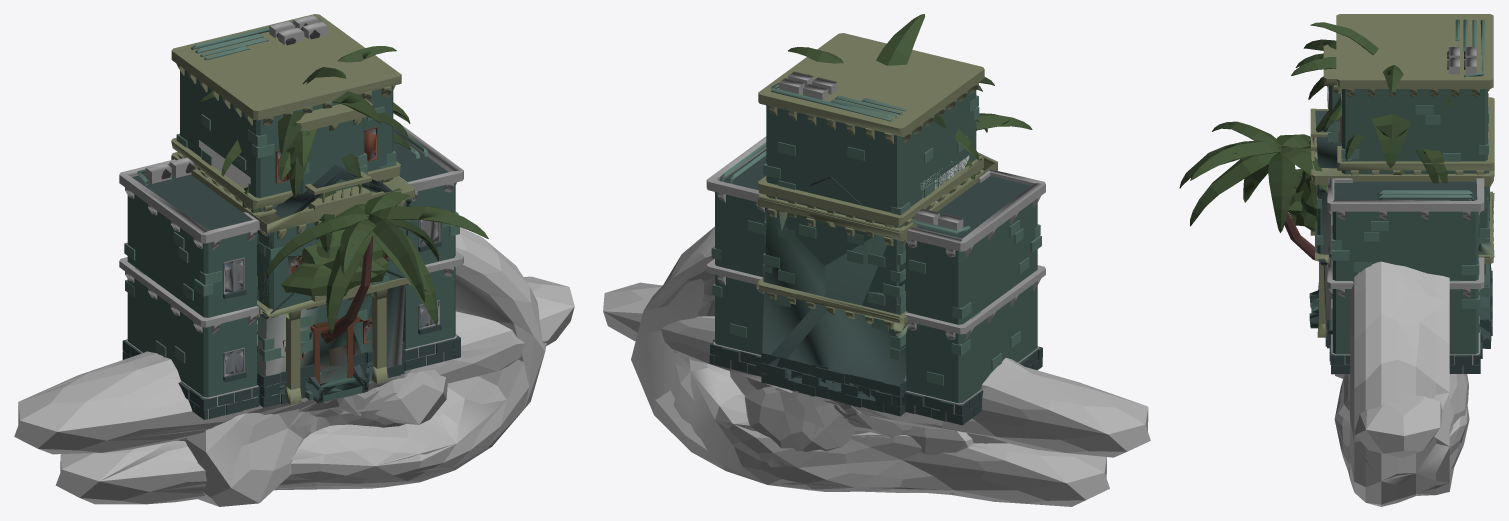
File: scenery.glb
3 views of the same model, side by side, from view 1: azimuth 30°, elevation 25°; view 2: azimuth 150°, elevation 25°; view 3: azimuth 270°, elevation 25° (orthographic). The views are drawn at different scales.
Parts seen in each view (by area): view 1: sobrado_largo, nuvem_5, nuvem_4, casarao_varanda, casarao_varanda_low, palmeira_2, nuvem_3, sobrado_colunas, sobrado_telhado, nuvem_5_low, sobrado_telhado_low, casarao_estreito (+13 smaller); view 2: sobrado_largo, nuvem_5, casarao_varanda, nuvem_4, sobrado_low, sobrado_varanda, nuvem_5_low, casarao_varanda_low, sobrado, nuvem_3, sobrado_varanda_low, sobrado_colunas (+3 smaller); view 3: sobrado_largo, nuvem_5, casarao_varanda, casarao_varanda_low, palmeira_2, nuvem_4, nuvem_5_low, sobrado_varanda, palmeira_1, sobrado_colunas, palmeira_3, sobrado_telhado (+10 smaller).
Boxes of the visible parts, left/top/right/bottom form: sobrado_largo: left=119, top=125, right=463, bottom=419; nuvem_5: left=55, top=227, right=546, bottom=504; nuvem_4: left=14, top=276, right=574, bottom=454; casarao_varanda: left=171, top=14, right=401, bottom=401; casarao_varanda_low: left=173, top=15, right=399, bottom=180; palmeira_2: left=266, top=188, right=488, bottom=337; nuvem_3: left=185, top=378, right=405, bottom=506; sobrado_colunas: left=172, top=152, right=414, bottom=404; sobrado_telhado: left=257, top=165, right=412, bottom=407; nuvem_5_low: left=101, top=275, right=513, bottom=491; sobrado_telhado_low: left=265, top=170, right=409, bottom=394; casarao_estreito: left=296, top=99, right=372, bottom=398; sobrado_largo: left=706, top=136, right=1045, bottom=425; nuvem_5: left=643, top=226, right=1109, bottom=506; casarao_varanda: left=758, top=33, right=984, bottom=407; nuvem_4: left=603, top=282, right=1150, bottom=457; sobrado_low: left=761, top=208, right=907, bottom=400; sobrado_varanda: left=758, top=155, right=983, bottom=415; nuvem_5_low: left=631, top=227, right=1063, bottom=490; casarao_varanda_low: left=759, top=33, right=983, bottom=128; sobrado: left=757, top=197, right=906, bottom=416; nuvem_3: left=744, top=386, right=973, bottom=494; sobrado_varanda_low: left=760, top=156, right=982, bottom=405; sobrado_colunas: left=758, top=152, right=997, bottom=412; sobrado_largo: left=1327, top=87, right=1484, bottom=374; nuvem_5: left=1334, top=261, right=1469, bottom=506; casarao_varanda: left=1310, top=14, right=1493, bottom=348; casarao_varanda_low: left=1336, top=14, right=1493, bottom=253; palmeira_2: left=1179, top=122, right=1327, bottom=261; nuvem_4: left=1348, top=374, right=1442, bottom=457; nuvem_5_low: left=1335, top=264, right=1466, bottom=493; sobrado_varanda: left=1309, top=97, right=1494, bottom=348; palmeira_1: left=1291, top=22, right=1453, bottom=183; sobrado_colunas: left=1311, top=151, right=1492, bottom=347; palmeira_3: left=1303, top=39, right=1447, bottom=183; sobrado_telhado: left=1315, top=110, right=1488, bottom=348.
Bounding box in the file's own units: 8.1 × 6.41 × 4.32.
